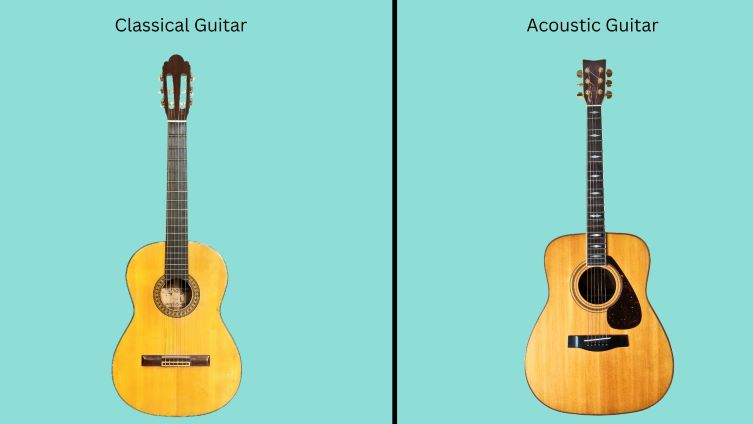guitar: (523, 58, 675, 417), (110, 53, 244, 420)
